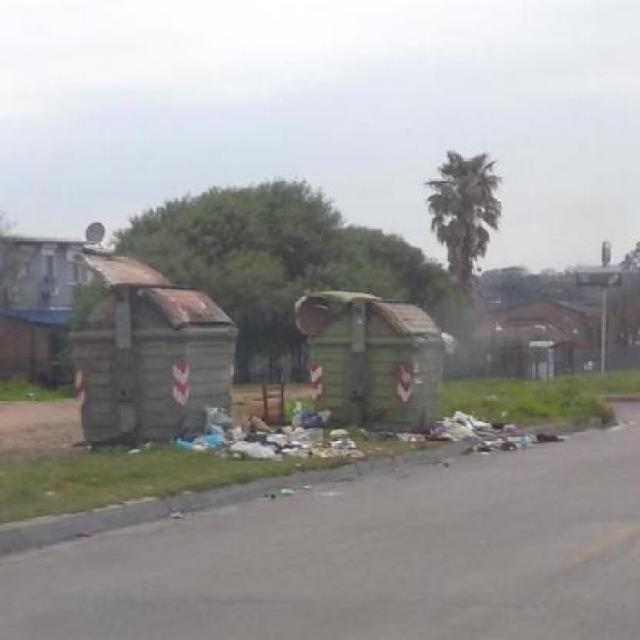garbage: (198, 396, 390, 476), (409, 398, 546, 460)
